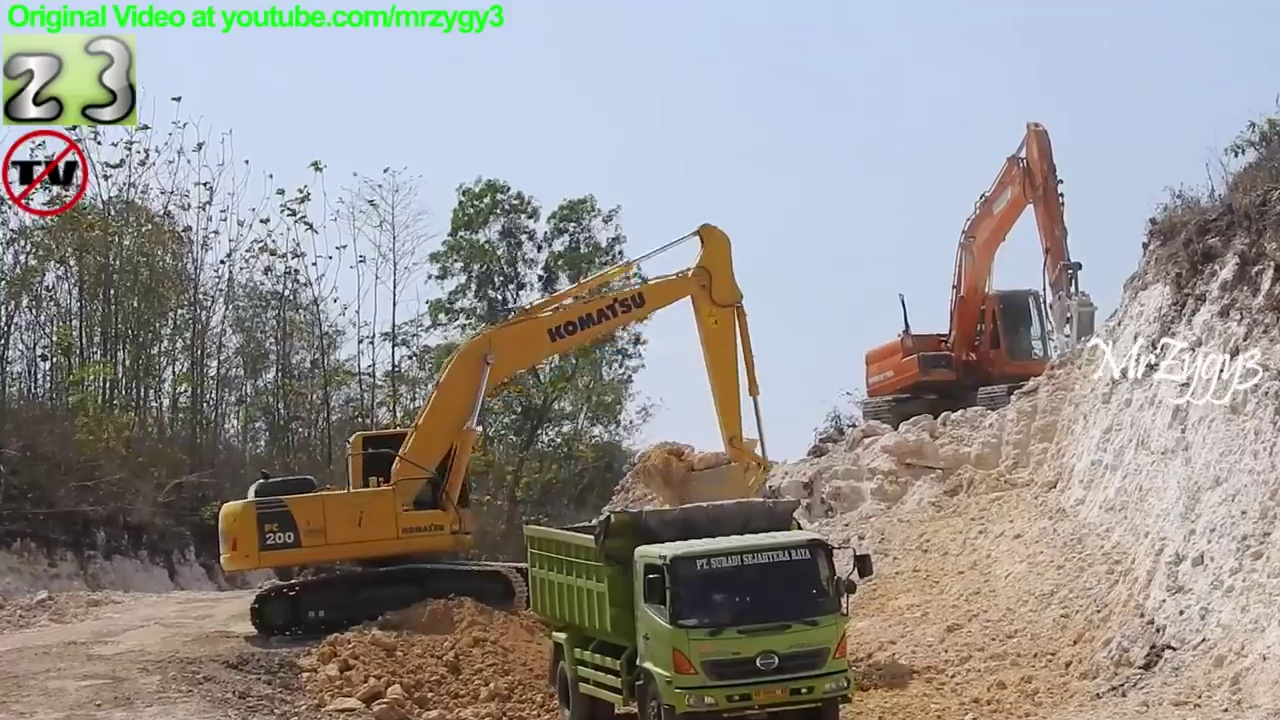excavator: (215, 220, 782, 651), (861, 114, 1105, 441)
truck: (517, 496, 879, 720)
